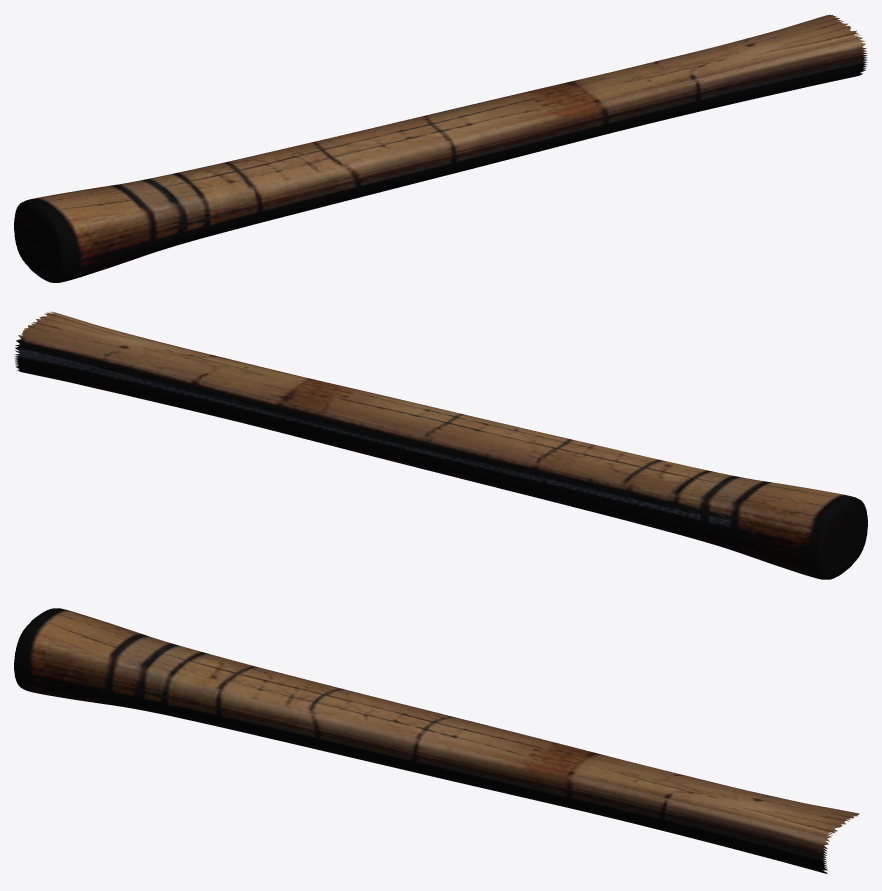
Rendered from hammer-shaft.glb.
3 views of the same model, one above another, from view 1: azimuth 30°, elevation 25°; view 2: azimuth 150°, elevation 25°; view 3: azimuth 330°, elevation 25° (orthographic).
Parts seen in each view (by area): view 1: tmp4xjd58ze.ply; view 2: tmp4xjd58ze.ply; view 3: tmp4xjd58ze.ply.
Part boxes in pixels (x1,y1,x2,y2): tmp4xjd58ze.ply: [14, 14, 867, 282]; tmp4xjd58ze.ply: [14, 311, 867, 579]; tmp4xjd58ze.ply: [14, 608, 859, 873].
Bounding box in the file's own units: 1.42 × 0.115 × 0.1498.
1 material, 1 textured.
